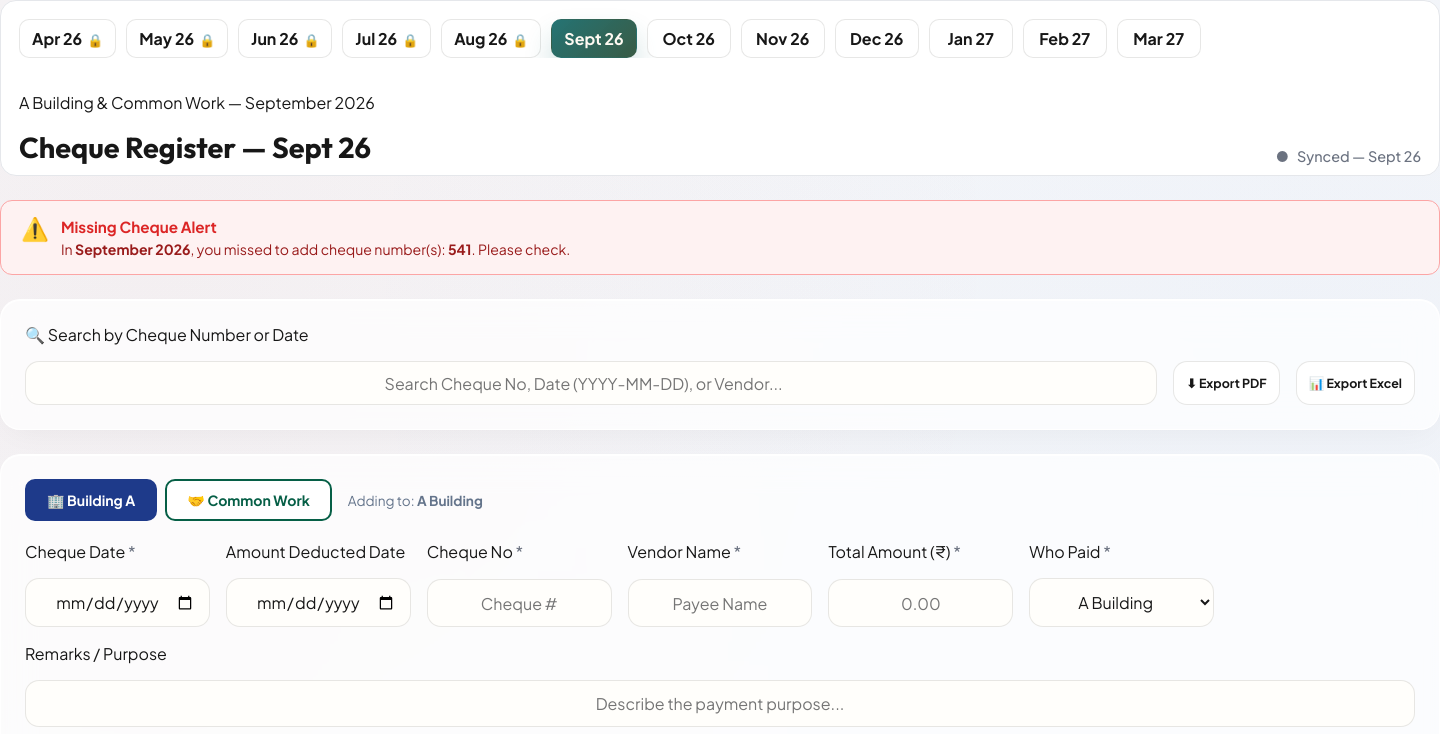
Test: ChequeManagement Component - Automatic Past Month Lock System › handles wrong password and unlocks past month when $05CeLRO is entered
This screenshot has width=1440, height=734.
Click the button "Jun 26🔒": (285, 38) [238, 19, 332, 58]
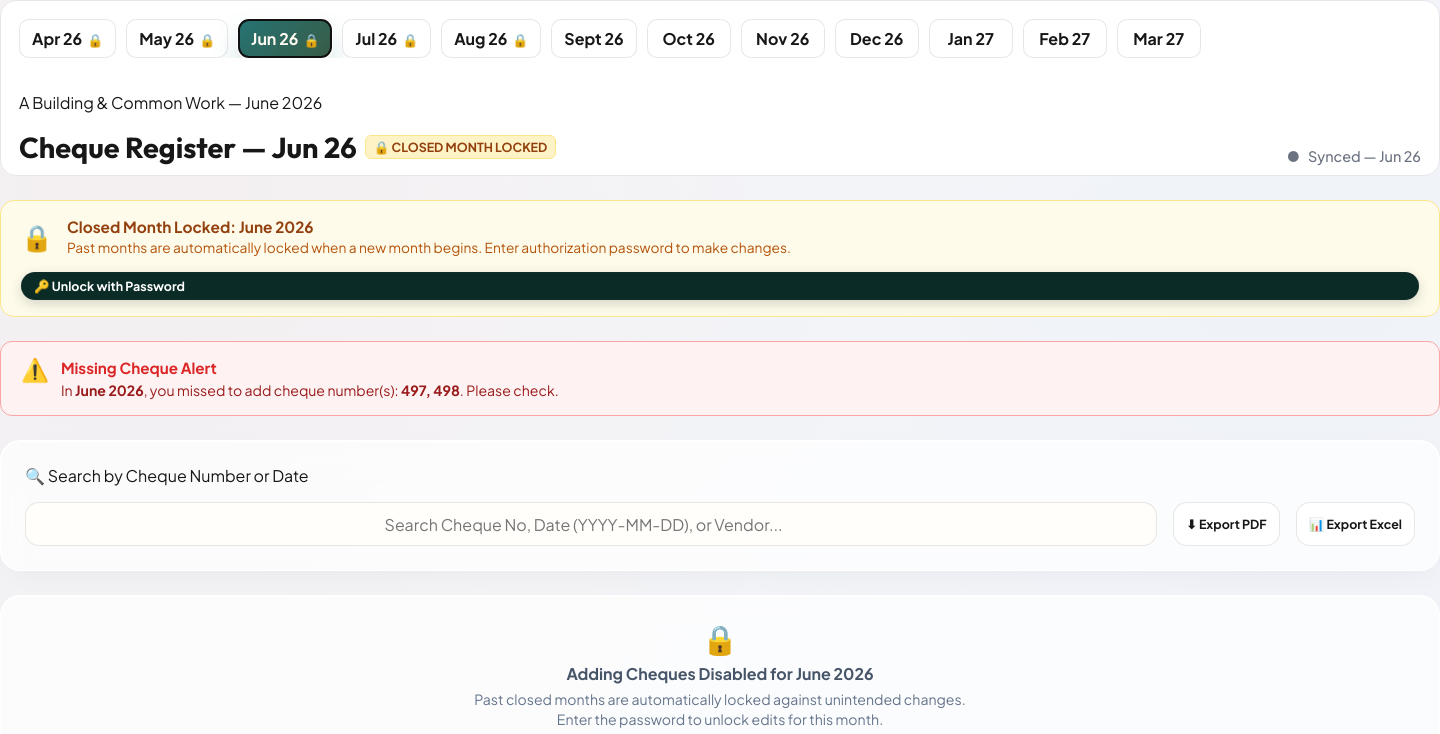
# Click Unlock with Password
Click the button "🔑 Unlock with Password": (109, 286) [21, 272, 1419, 300]
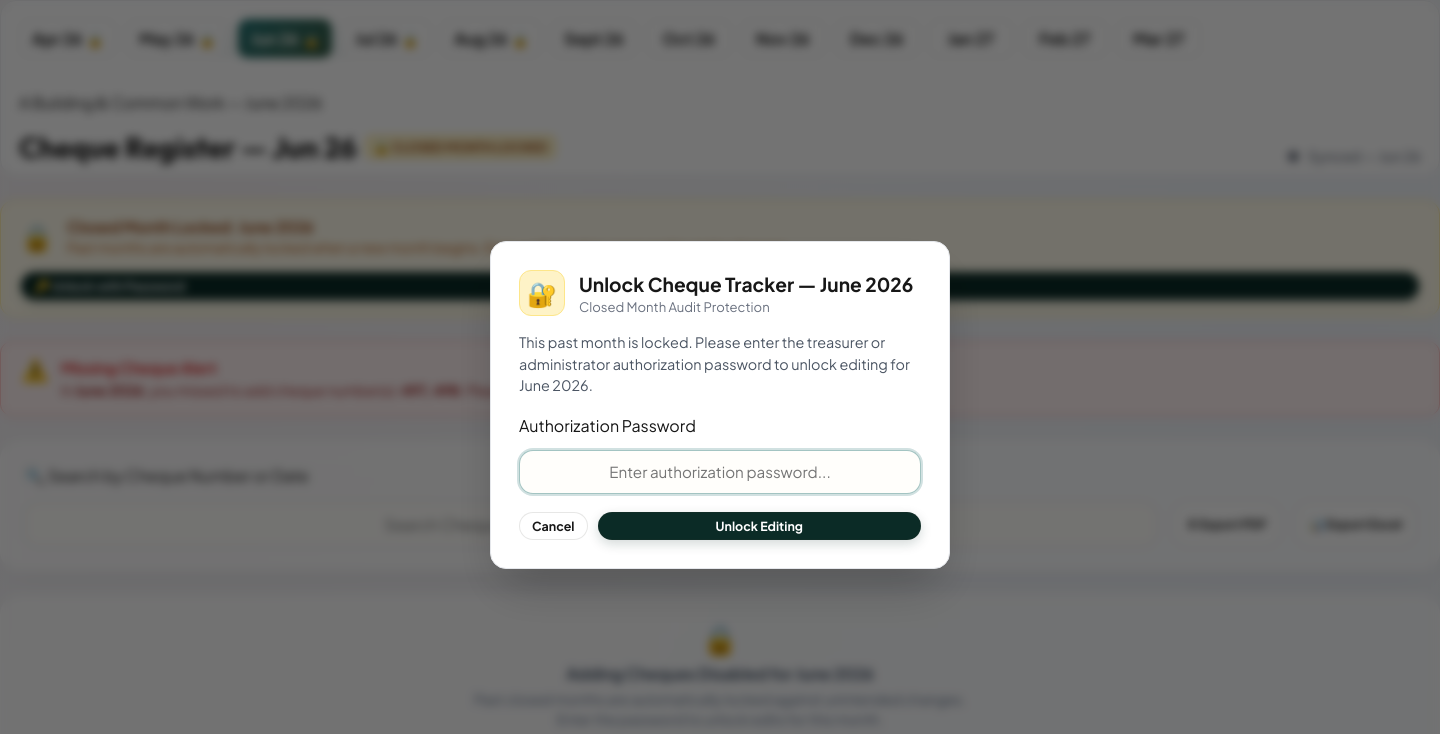
Expected: the heading "Unlock Cheque Tracker — June 2026" is shown, [579, 272, 913, 296]
# Test wrong password
In the password field labelled "Authorization Password": (720, 472) [519, 450, 921, 494], type "invalid"
Click the button "Unlock Editing": (759, 526) [598, 512, 921, 540]
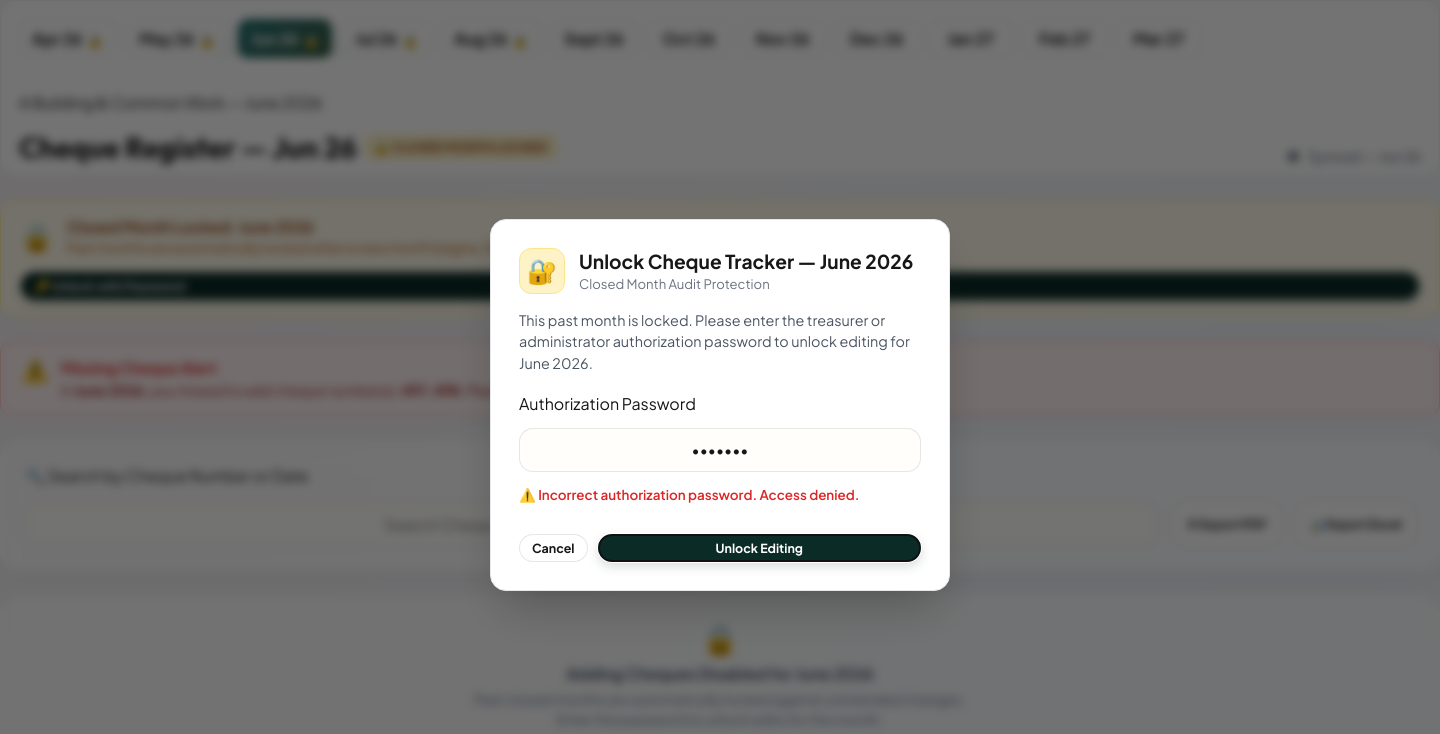
Expected: the text "⚠️ Incorrect authorization password. Access denied." is shown, [519, 486, 860, 503]
# Test correct password
Clear the password field labelled "Authorization Password": (720, 450) [519, 428, 921, 472]
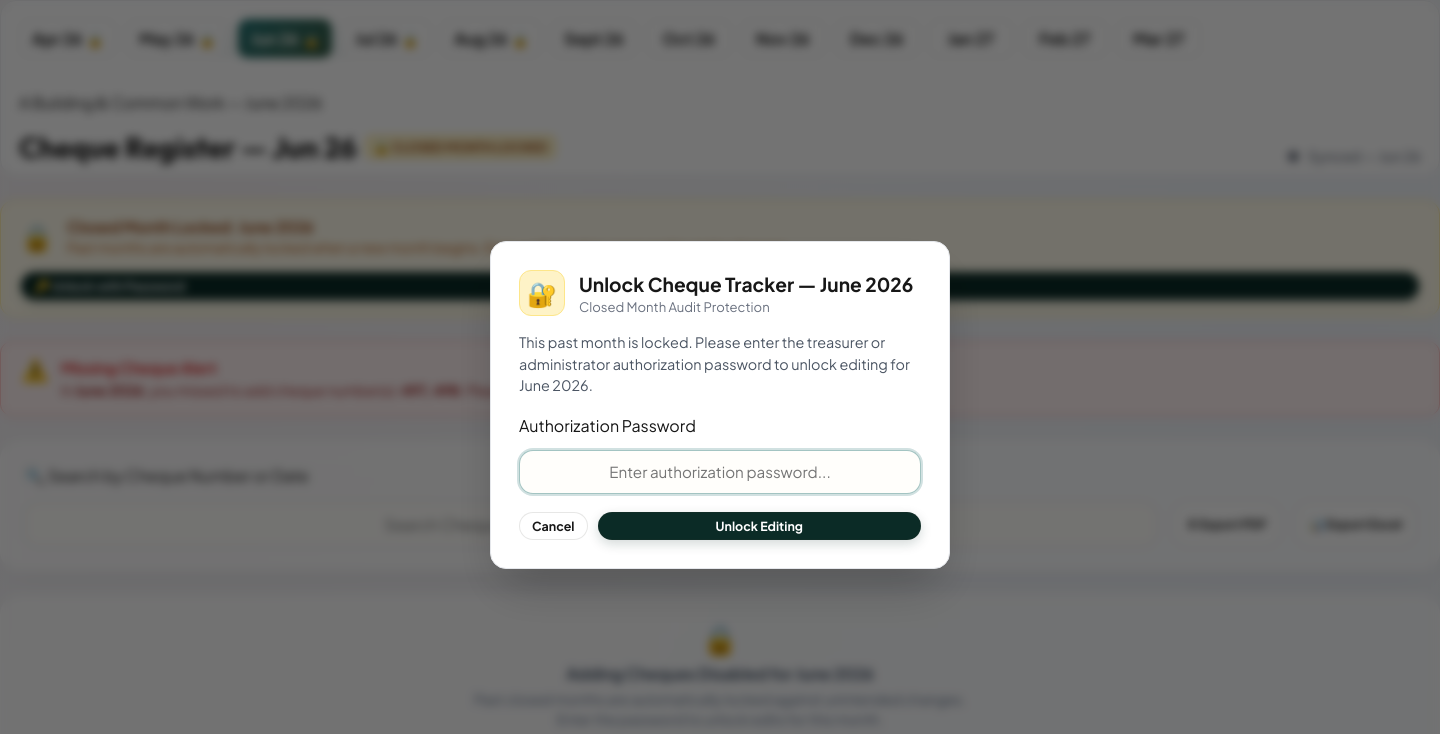
In the password field labelled "Authorization Password": (720, 472) [519, 450, 921, 494], type "$05CeLRO"
Click the button "Unlock Editing": (759, 526) [598, 512, 921, 540]
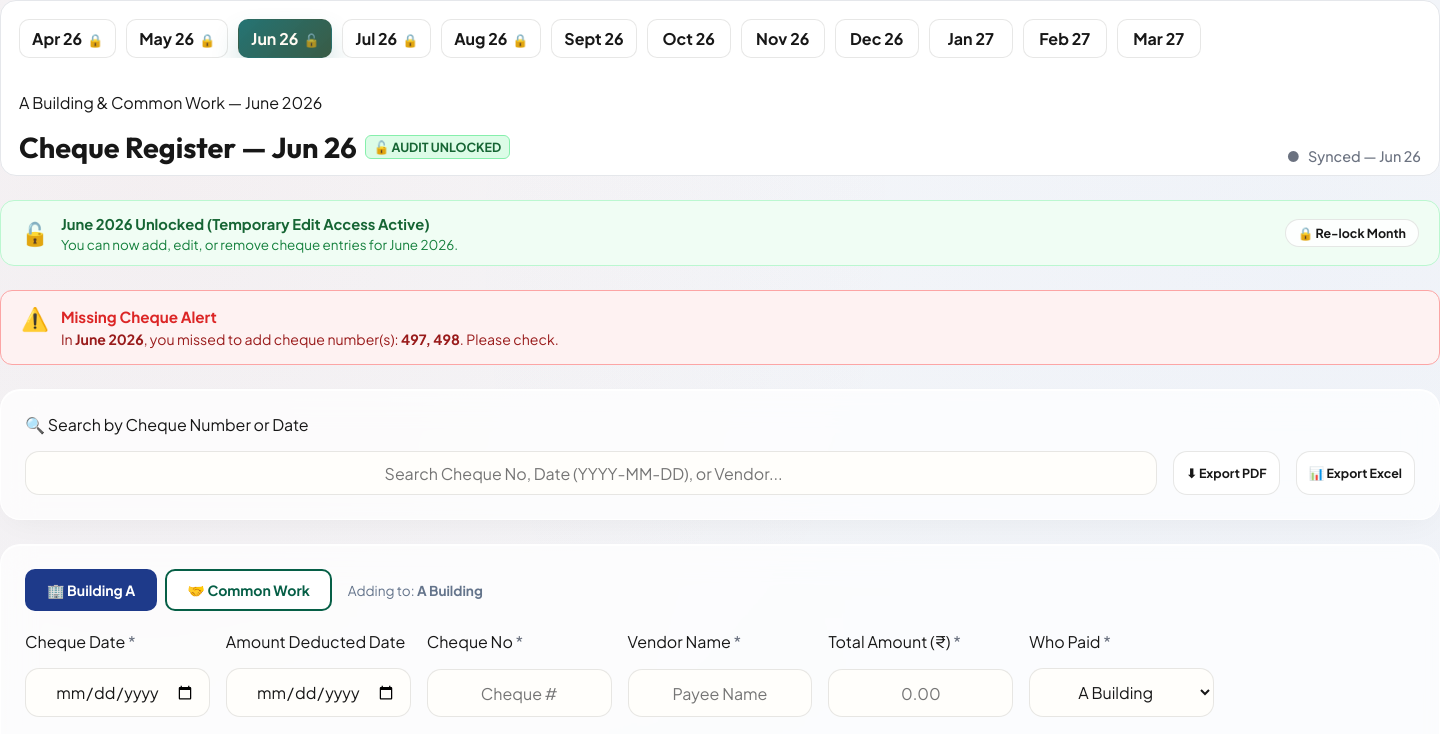
Expected: the heading "Unlock Cheque Tracker — June 2026" is gone
Expected: the text "June 2026 Unlocked (Temporary Edit Access Active)" is shown, [61, 215, 430, 233]
Expected: the text "🔓 AUDIT UNLOCKED" is shown, [365, 135, 510, 159]
# Re-lock Month
Click the button "🔒 Re-lock Month": (1352, 233) [1285, 219, 1419, 247]
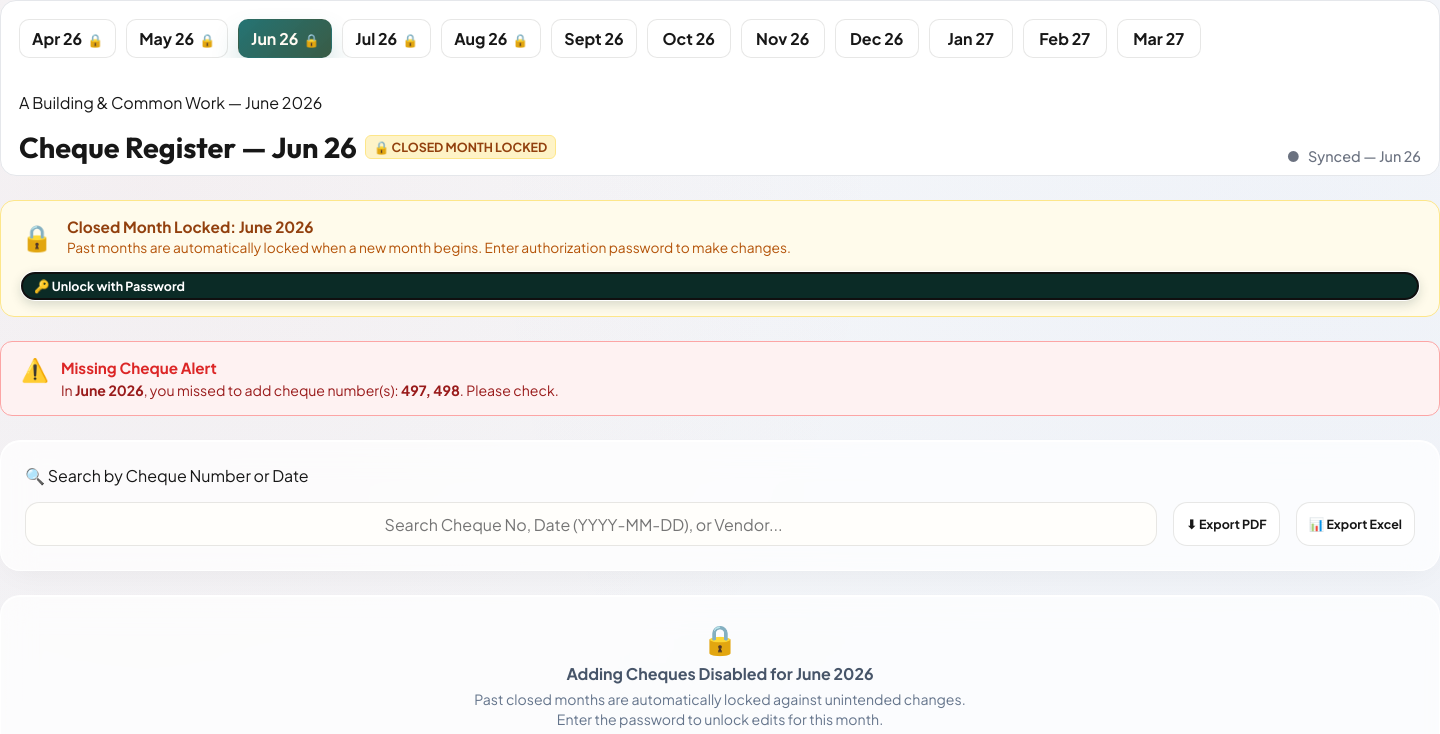
Expected: the heading "Closed Month Locked: June 2026" is shown, [67, 217, 314, 236]
